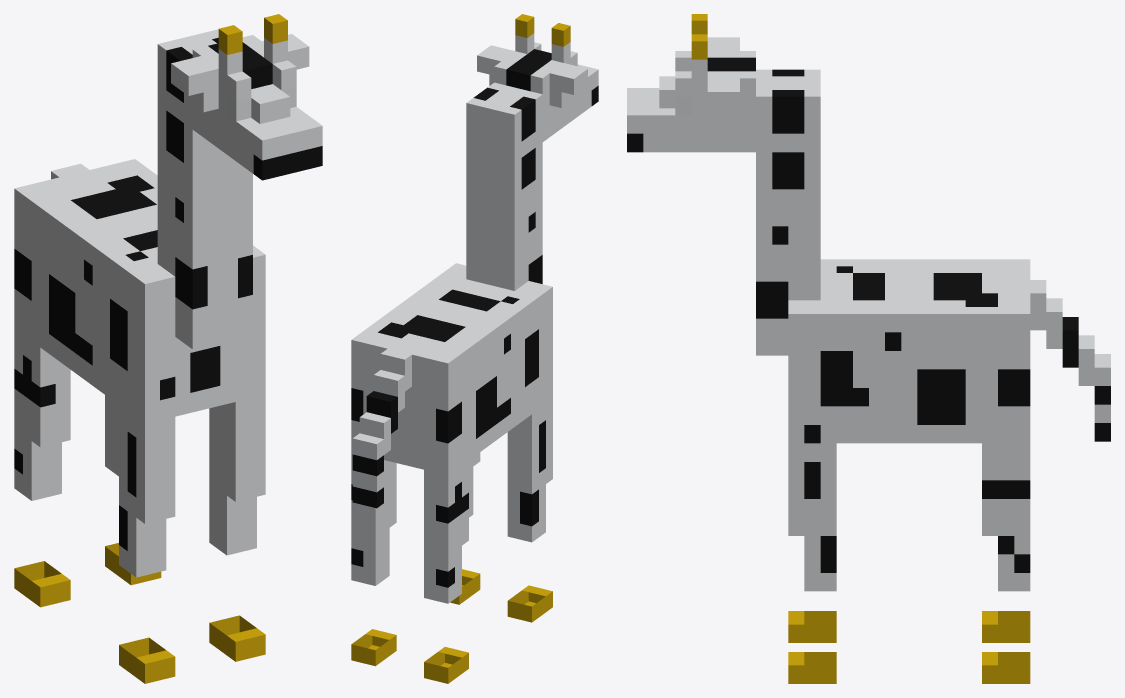
File: giraffe.fbx
3 renders of one model, left to right at view 1: azimuth 30°, elevation 25°; view 2: azimuth 150°, elevation 25°; view 3: azimuth 270°, elevation 25°, orthographic. The views are drawn at different scales.
Parts seen in each view (by area): view 1: giraffe:Mesh; view 2: giraffe:Mesh; view 3: giraffe:Mesh.
Boxes of the visible parts, <box> form: giraffe:Mesh: <box>14,14,322,683</box>; giraffe:Mesh: <box>351,14,598,683</box>; giraffe:Mesh: <box>627,14,1110,683</box>.
Size of the model in its own units: 0.8 by 4.3 by 3.
